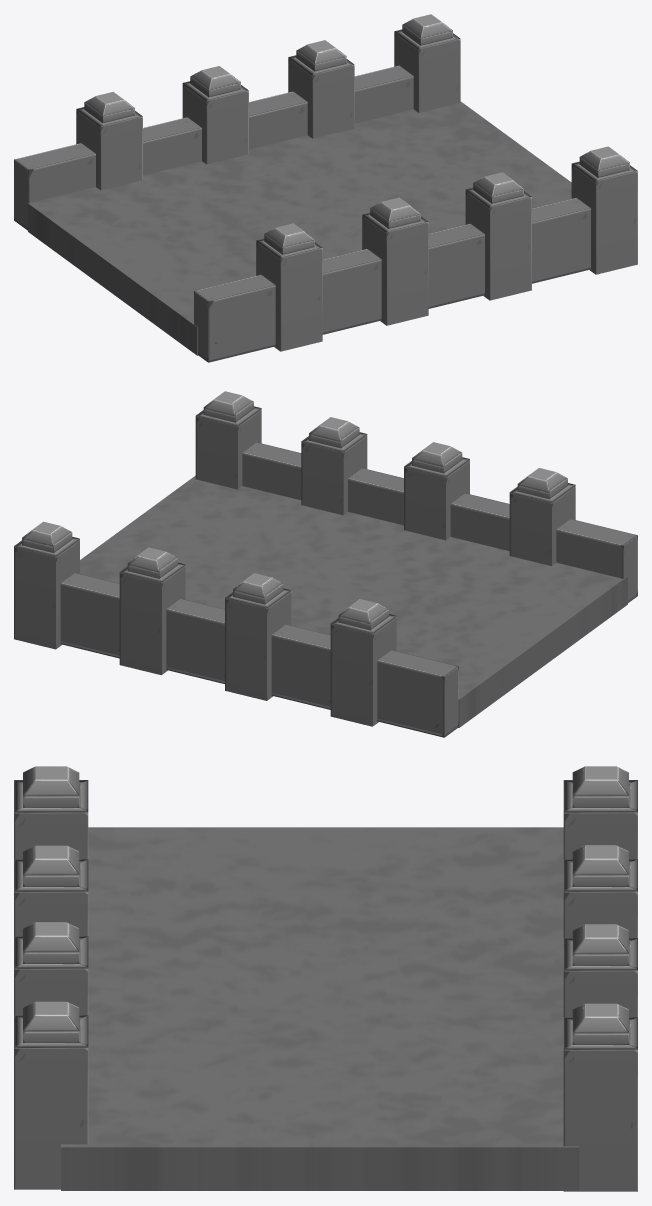
File: brug_final.fbx
3 views of the same model, one above another, from view 1: azimuth 30°, elevation 25°; view 2: azimuth 150°, elevation 25°; view 3: azimuth 270°, elevation 25° (orthographic). The views are drawn at different scales.
Visible parts, largest first — view 1: pCube1, pCube12, pCube10, pCube4, pCube2, pCube13, pCube8, pCube7, pCube14, pCube16, pCube11, pCube3 (+5 smaller); view 2: pCube1, pCube7, pCube16, pCube14, pCube8, pCube17, pCube2, pCube12, pCube4, pCube10, pCube15, pCube9 (+5 smaller); view 3: pCube1, pCube8, pCube2, pCube7, pCube12, pCube16, pCube4, pCube14, pCube10.
Boxes of the visible parts, x1=… form: pCube1: x1=28, y1=101, x2=571, y2=355; pCube12: x1=256, y1=223, x2=322, y2=351; pCube10: x1=362, y1=197, x2=428, y2=325; pCube4: x1=465, y1=172, x2=531, y2=300; pCube2: x1=571, y1=146, x2=637, y2=274; pCube13: x1=194, y1=275, x2=275, y2=362; pCube8: x1=394, y1=14, x2=460, y2=112; pCube7: x1=288, y1=40, x2=354, y2=138; pCube14: x1=182, y1=66, x2=248, y2=164; pCube16: x1=76, y1=91, x2=142, y2=190; pCube11: x1=322, y1=249, x2=381, y2=334; pCube3: x1=532, y1=198, x2=590, y2=283; pCube1: x1=80, y1=475, x2=627, y2=727; pCube7: x1=119, y1=547, x2=185, y2=675; pCube16: x1=330, y1=599, x2=396, y2=726; pCube14: x1=225, y1=573, x2=291, y2=700; pCube8: x1=14, y1=521, x2=79, y2=649; pCube17: x1=377, y1=650, x2=458, y2=737; pCube2: x1=195, y1=391, x2=261, y2=489; pCube12: x1=509, y1=468, x2=575, y2=565; pCube4: x1=301, y1=417, x2=367, y2=515; pCube10: x1=404, y1=442, x2=469, y2=540; pCube15: x1=271, y1=624, x2=330, y2=709; pCube9: x1=60, y1=573, x2=119, y2=658; pCube1: x1=61, y1=827, x2=579, y2=1190; pCube8: x1=563, y1=1003, x2=637, y2=1191; pCube2: x1=14, y1=1001, x2=88, y2=1189; pCube7: x1=563, y1=924, x2=637, y2=1017; pCube12: x1=14, y1=766, x2=88, y2=859; pCube16: x1=563, y1=766, x2=637, y2=859; pCube4: x1=14, y1=922, x2=88, y2=1015; pCube14: x1=563, y1=845, x2=637, y2=937; pCube10: x1=14, y1=845, x2=88, y2=936.
Size of the model in its own units: 10.2 by 2.46 by 8.4.
